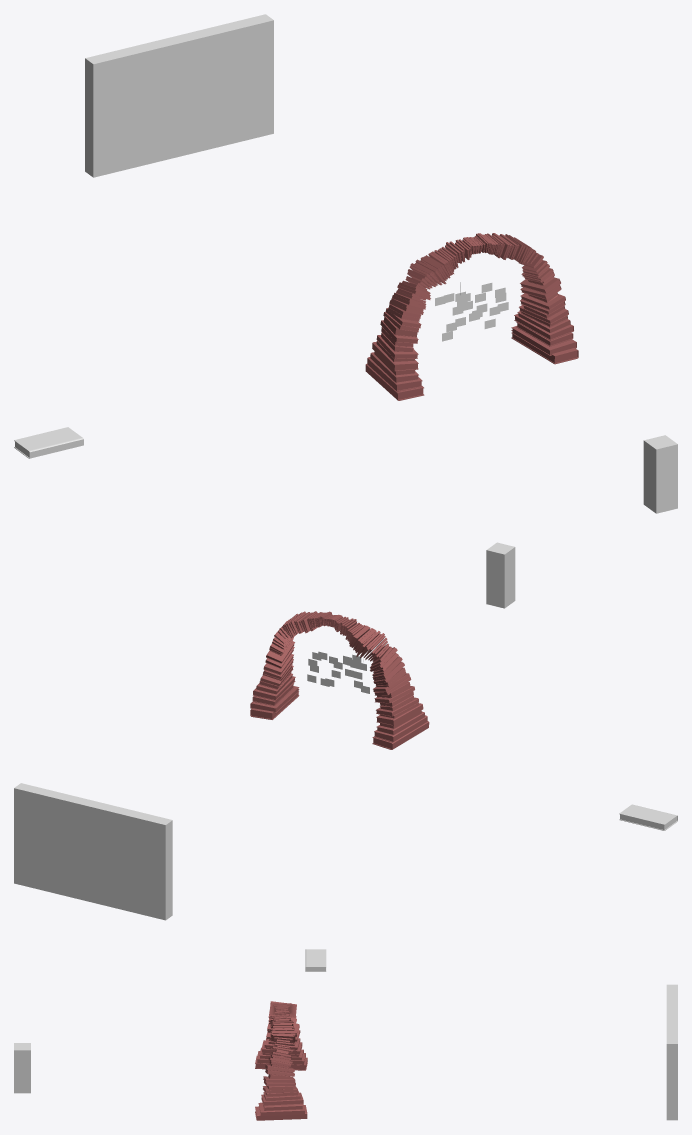
3 renders of one model, top to bottom at view 1: azimuth 30°, elevation 25°; view 2: azimuth 150°, elevation 25°; view 3: azimuth 270°, elevation 25°, orthographic. The views are drawn at different scales.
Visible parts, largest first — view 1: Cube, Cube.001, Cylinder; view 2: Cube, Cube.001, Cylinder; view 3: Cube, Cube.001, Cylinder, Cylinder.054, Cylinder.053.
Part boxes in pixels (x1,y1,x2,y2): Cube: [85, 14, 273, 177]; Cube.001: [643, 435, 677, 513]; Cylinder: [14, 427, 83, 458]; Cube: [14, 783, 172, 920]; Cube.001: [486, 542, 515, 608]; Cylinder: [619, 804, 677, 830]; Cube: [666, 984, 677, 1120]; Cube.001: [14, 1043, 30, 1093]; Cylinder: [305, 949, 326, 971]; Cylinder.054: [255, 1105, 307, 1120]; Cylinder.053: [258, 1102, 304, 1115].
Bounding box in the file's own units: 14.23 × 3.39 × 23.66.
